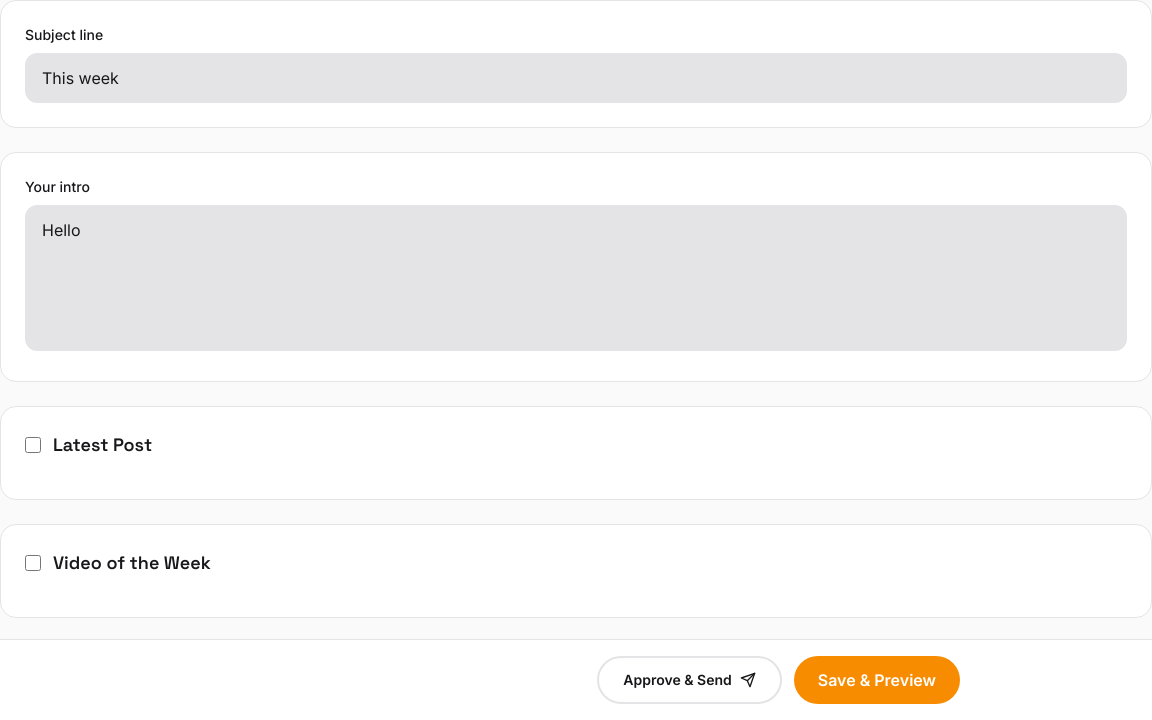
it: NewsletterEditForm: Approve & Send › saves what is typed first, asks with the server’s count, and only sends on "Send now"
The width and height of the screenshot is (1152, 720).
Step 1. Replace the text in the text box showing "Hello" with "A long piece Stephen wrote" → {"x": 576, "y": 278}, box [25,205,1127,351]
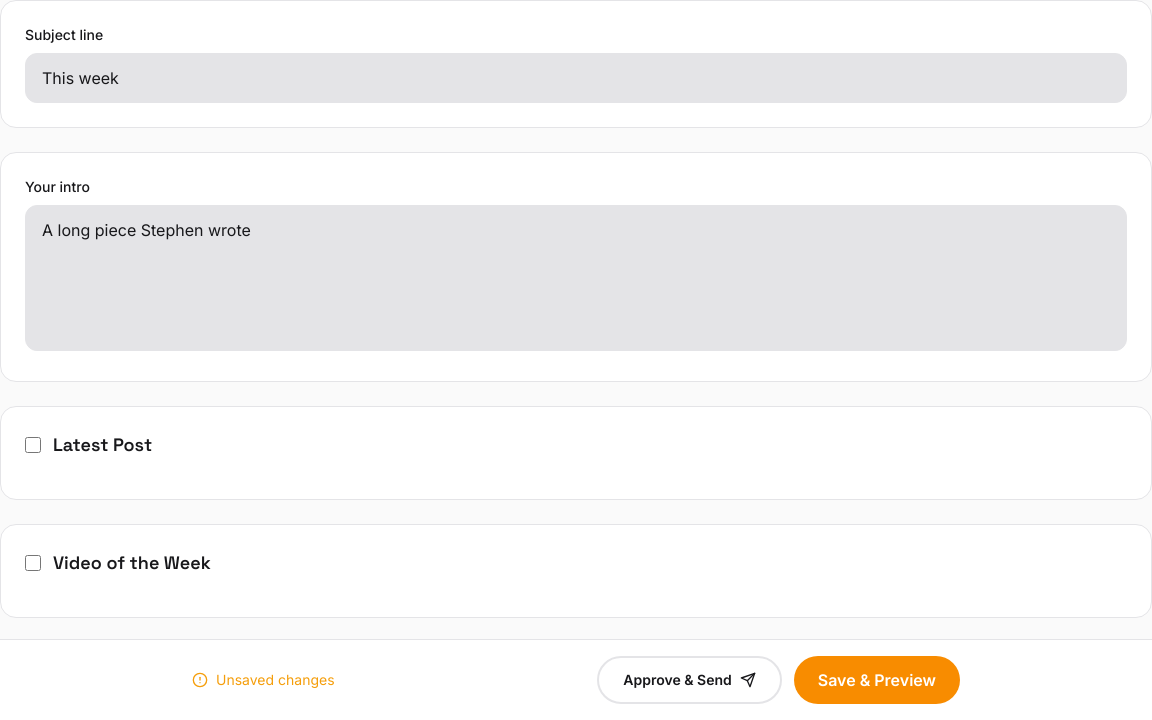
Now the text "Unsaved changes" is shown, box [192,670,335,690]
Step 2. Click the button "Approve & Send" → {"x": 690, "y": 680}, box [597,656,782,704]
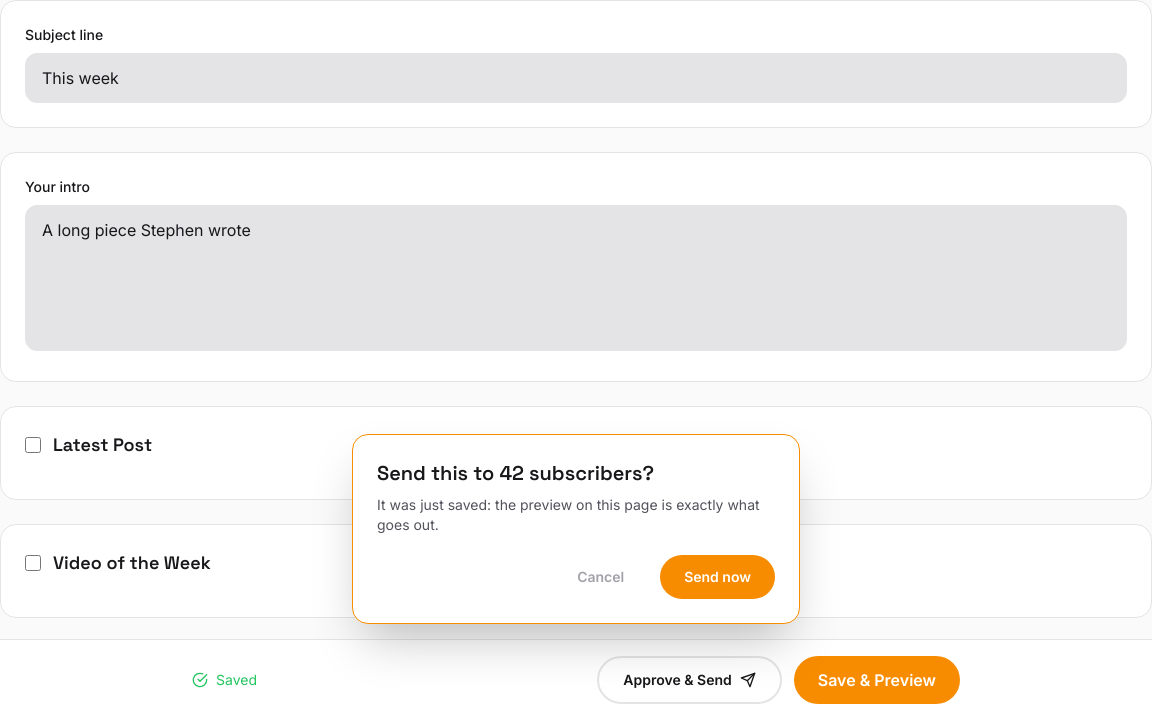
Now the text "Send this to 42 subscribers?" is shown, box [377,460,654,486]
Now the text "Unsaved changes" is gone
Step 3. Click the button "Send now" → {"x": 718, "y": 577}, box [660,555,775,599]
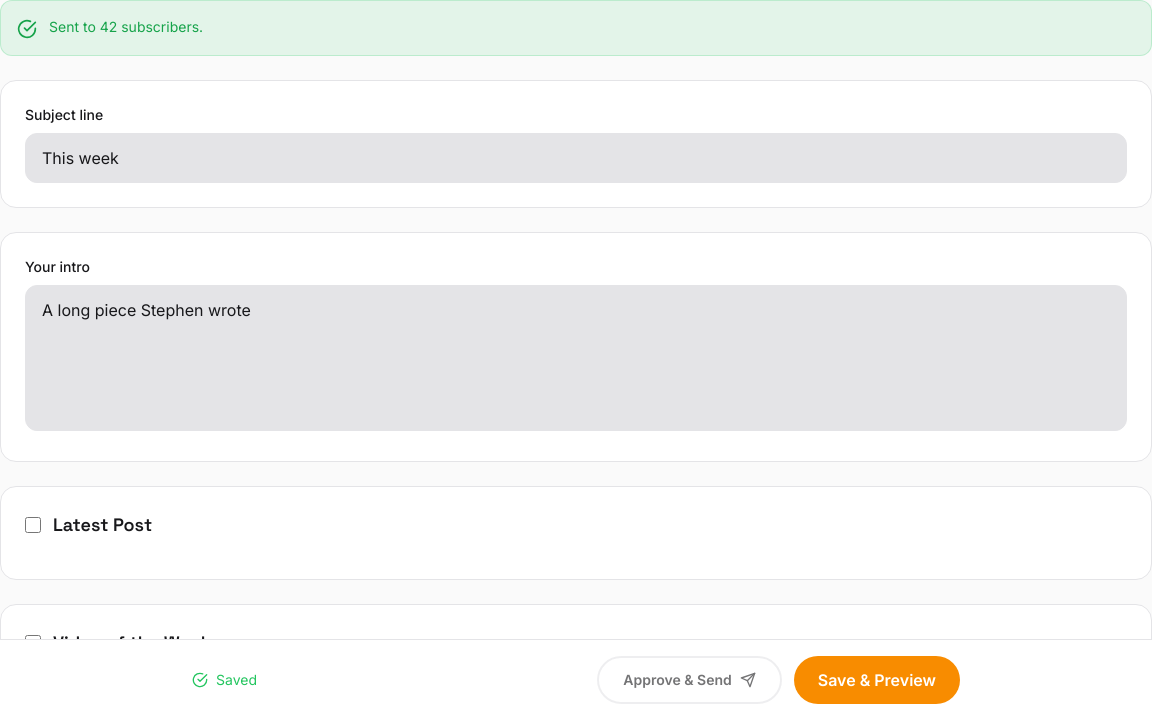
Now the text "Sent to 42 subscribers." is shown, box [49,17,203,37]
